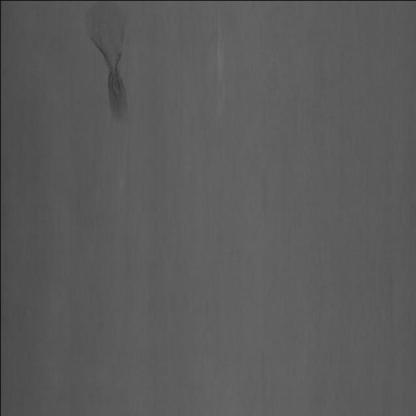water_spot: (83, 6, 133, 128)
